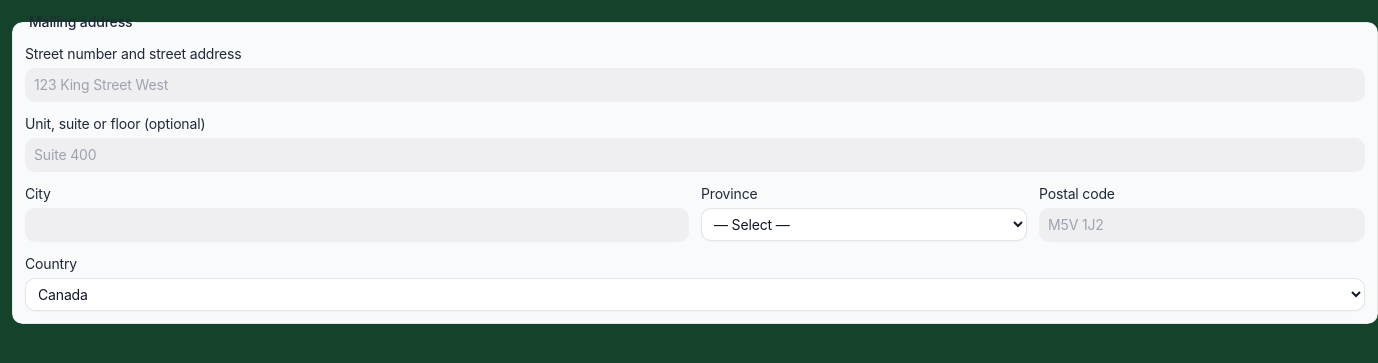
Test case: StructuredAddressFields › allows typing and backspacing without repeatedly inserting Canada
Type "2" into the field labelled "Street number and street address".
click(695, 85); type("2")  # box [25,68,1365,102]
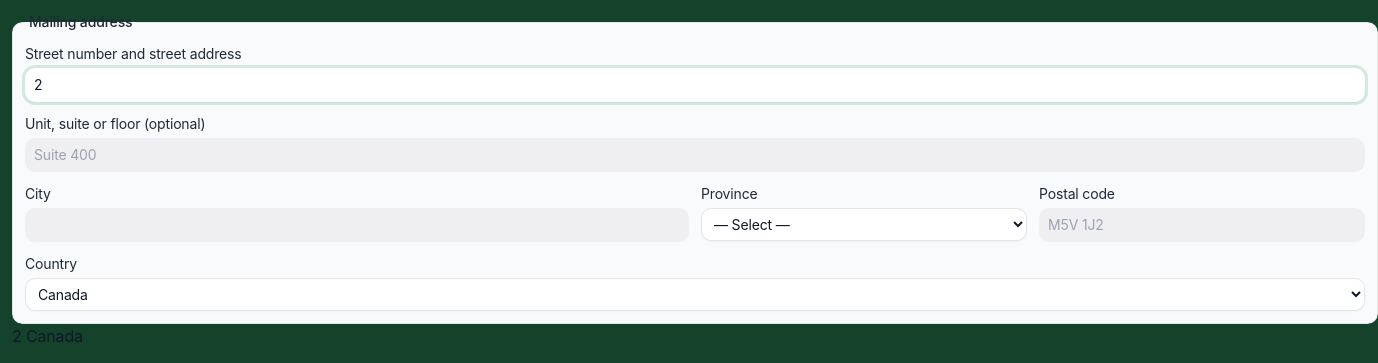
Press Backspace
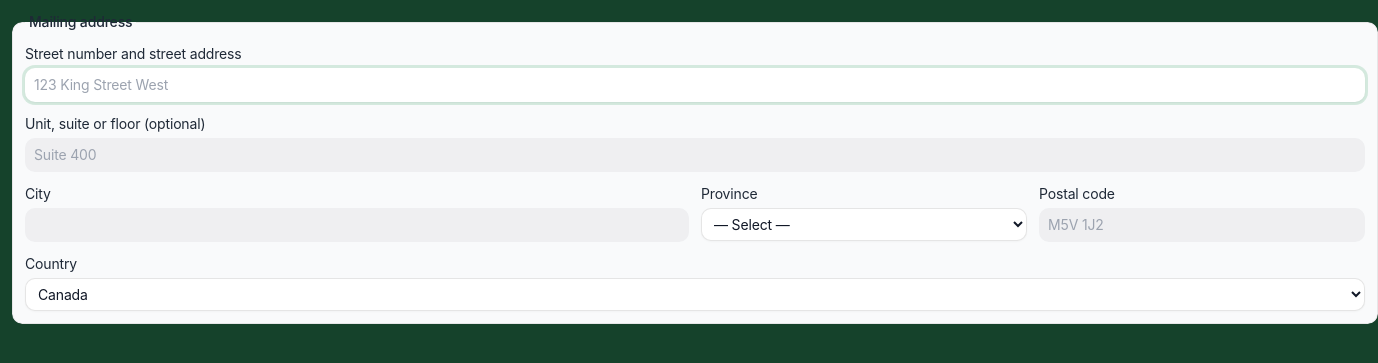
Type "123 Main Street" into the field labelled "Street number and street address".
click(695, 85); type("123 Main Street")  # box [25,68,1365,102]
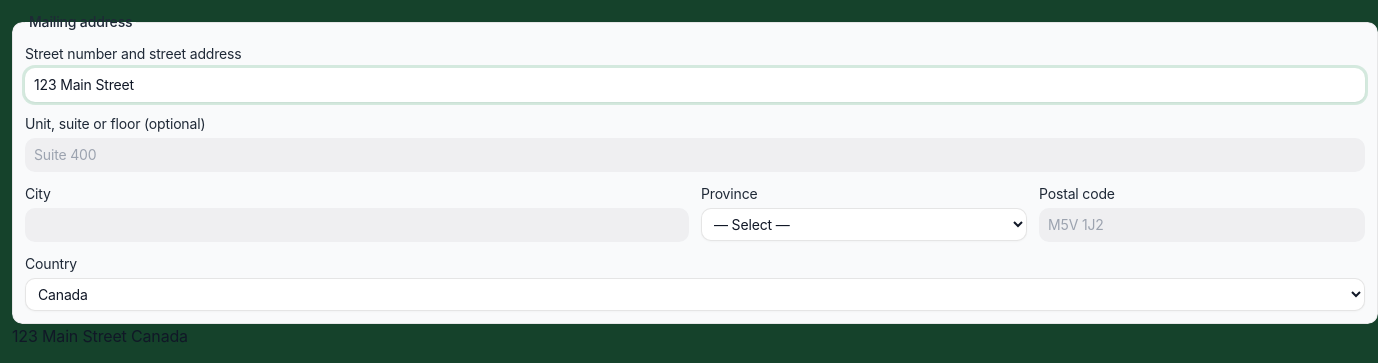
expect the text "123 Main Street Canada" is shown: met, box [12,326,188,346]
